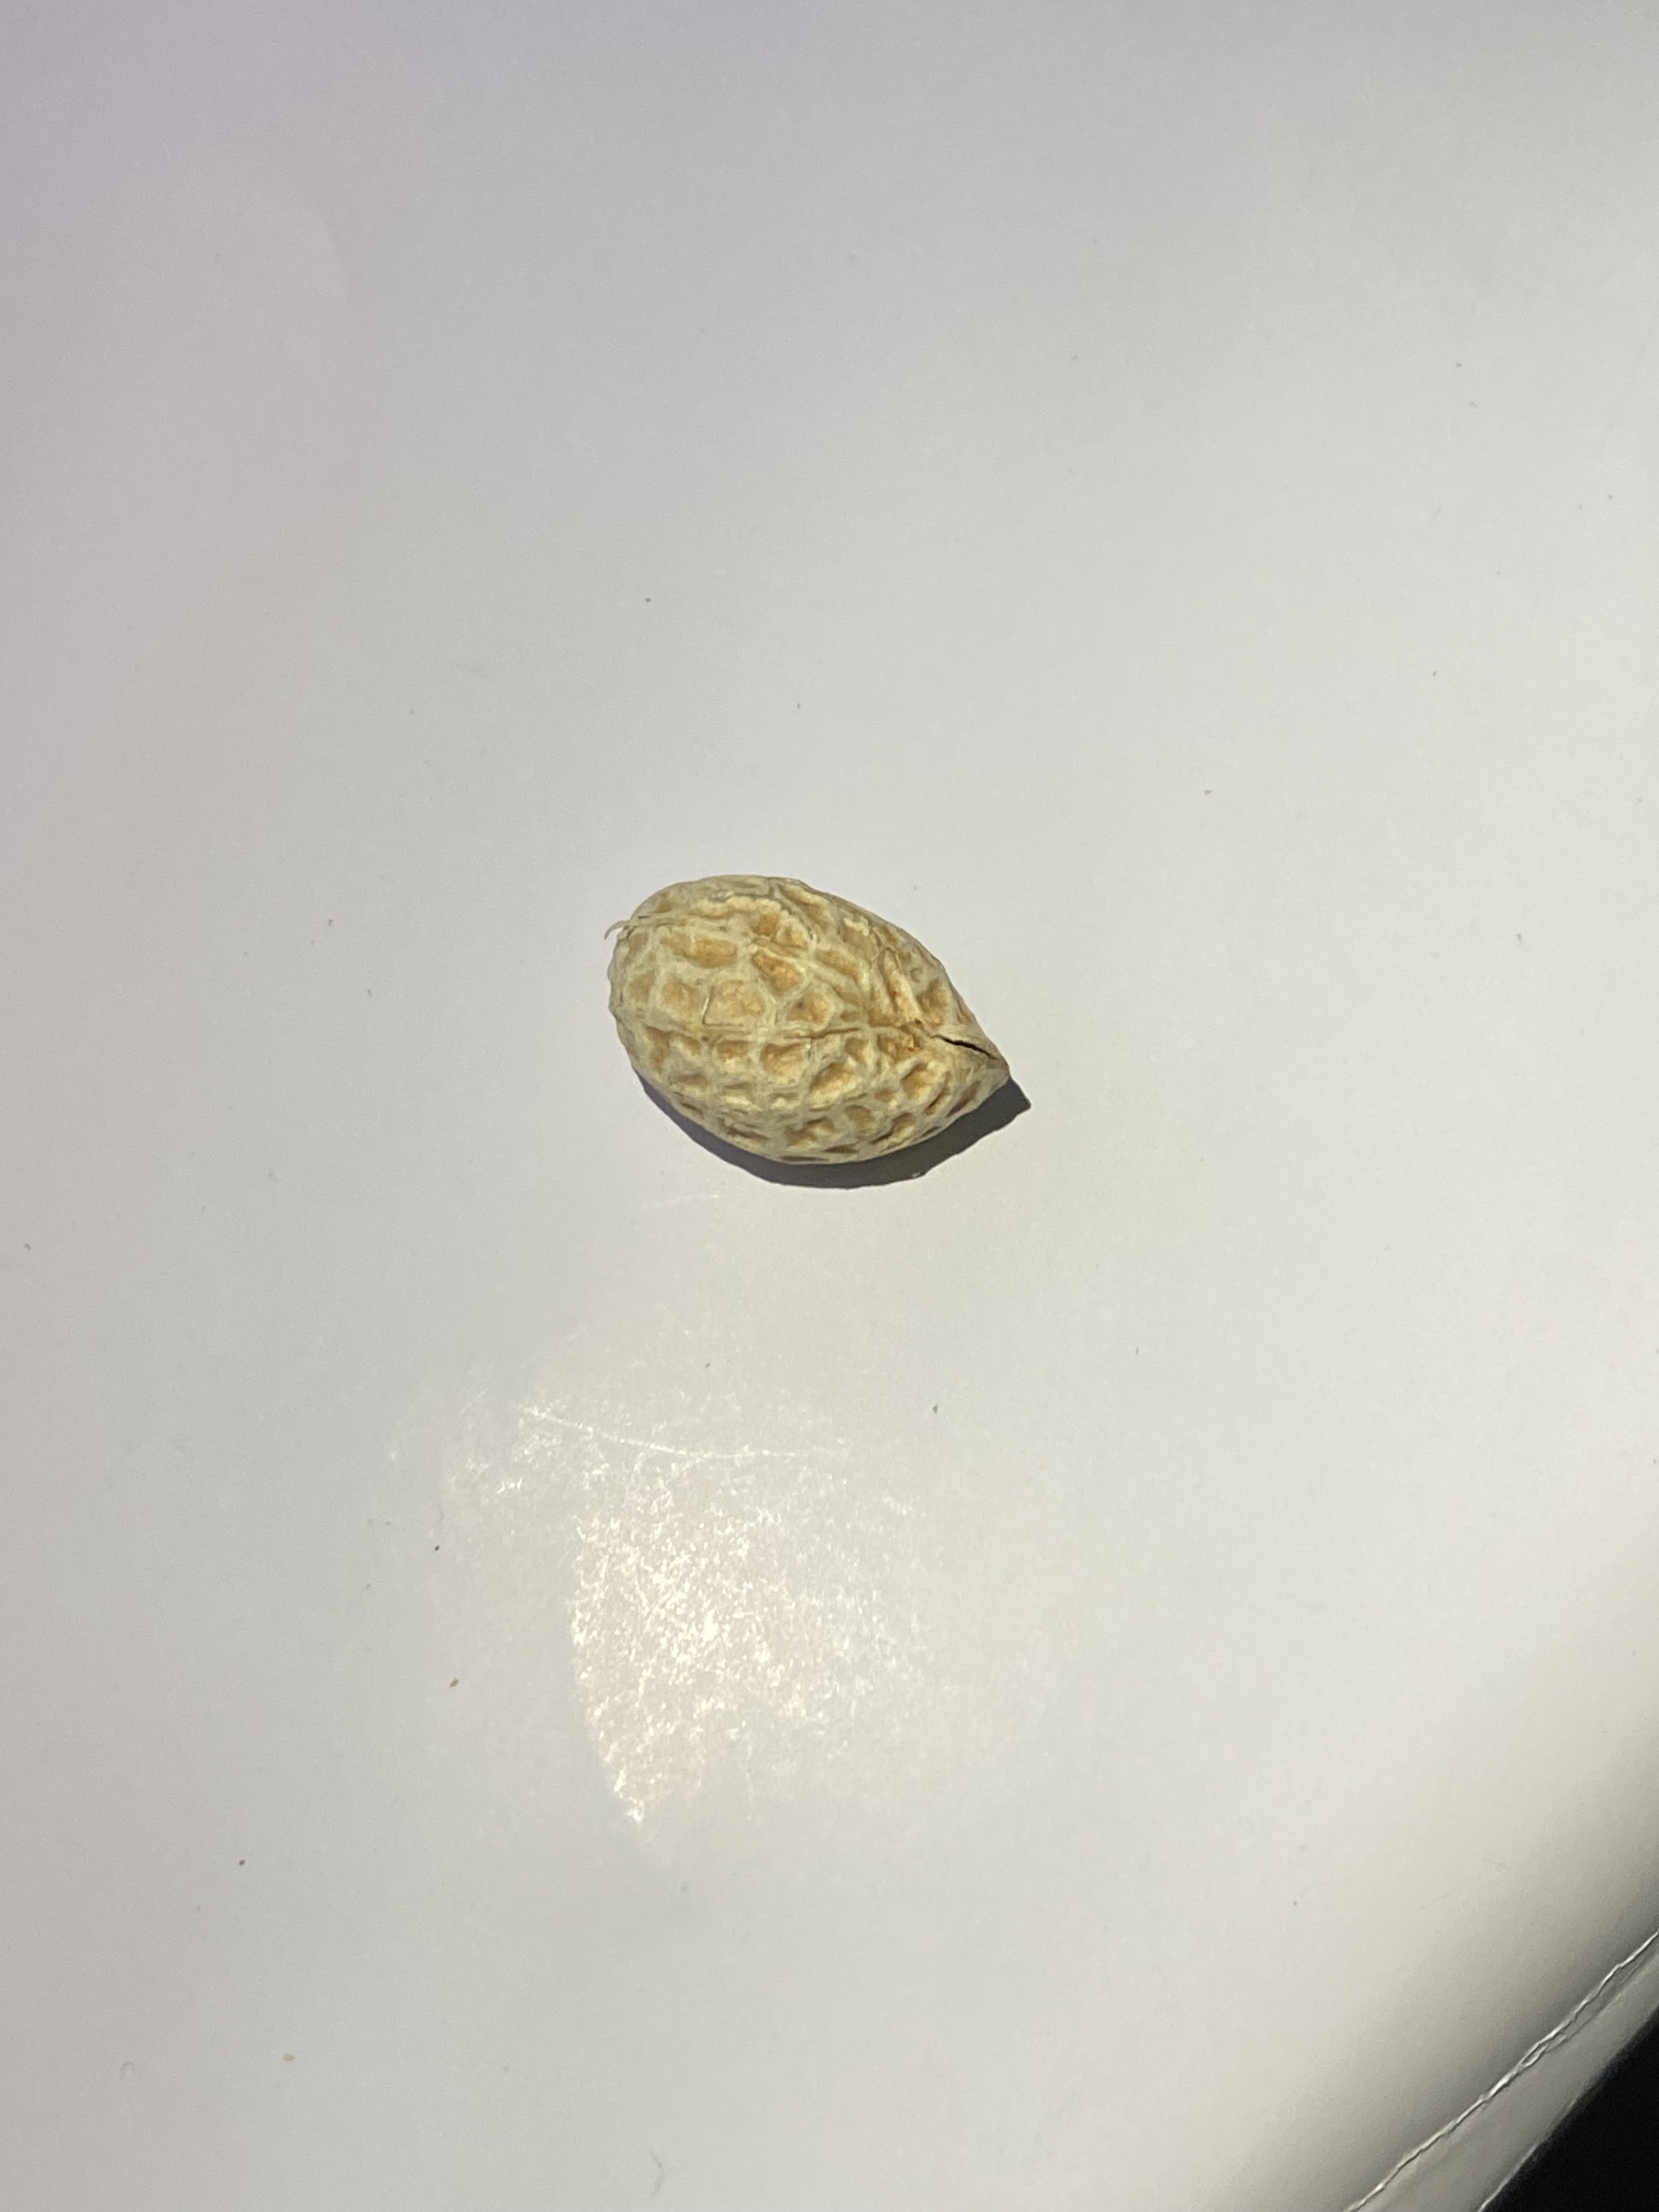kacang1: (584, 876, 1080, 1174)
